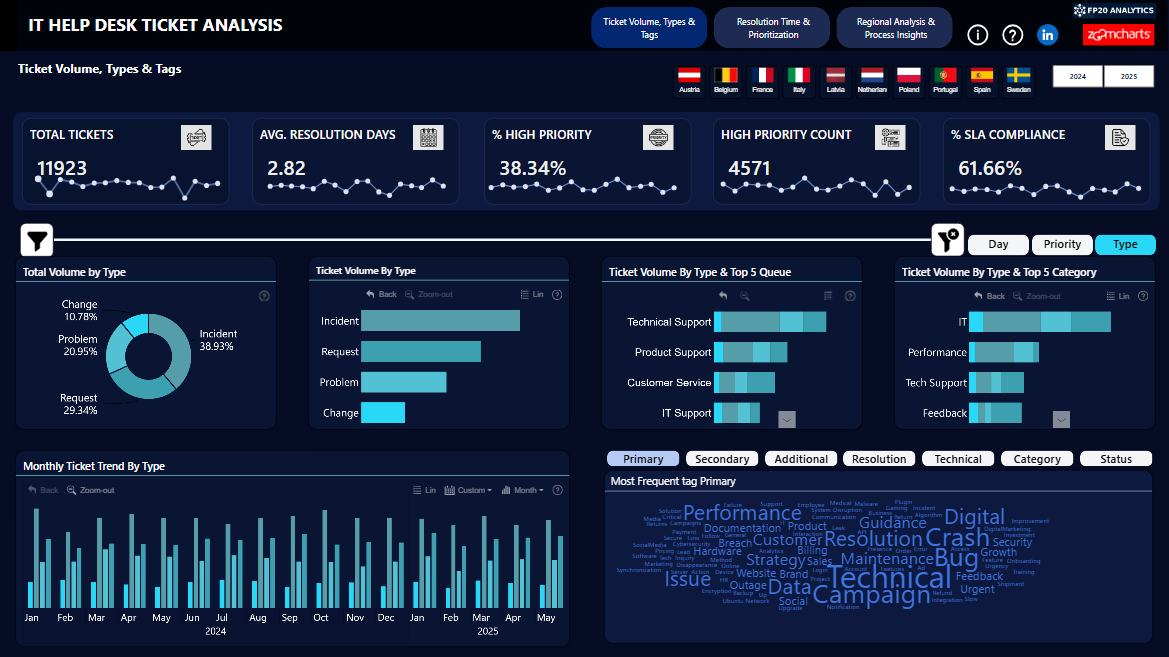

Layout of this report page (visuals, bound fields, positions):
{"tool":"powerbi","page":{"name":"Ticket Volume, Types & Tags","canvas":[1920,1080],"ordinal":0},"visuals":[{"type":"textbox","box":[0,0,31.6,83.5],"z":0},{"type":"shape","box":[24.2,128.7,1880.3,162],"z":0,"group":"g10"},{"type":"cardVisual","title":"AVG. RESOLUTION DAYS","fields":{"Data":["dax_measures.Avg Resolution Days"]},"box":[415,138.5,340,141.8],"z":0,"group":"g4"},{"type":"cardVisual","title":"% HIGH PRIORITY ","fields":{"Data":["dax_measures.High Priority %"]},"box":[794.4,138.5,340,141.8],"z":0,"group":"g3"},{"type":"cardVisual","title":"HIGH PRIORITY COUNT","fields":{"Data":["dax_measures.High Priority"]},"box":[1171.2,138.5,340,141.8],"z":0,"group":"g2"},{"type":"cardVisual","title":"% SLA COMPLIANCE ","fields":{"Data":["dax_measures.SLA Compliance %"]},"box":[1548.3,138.5,340,141.8],"z":0,"group":"g1"},{"type":"cardVisual","title":"TOTAL TICKETS ","fields":{"Data":["dax_measures.Total Tickets"]},"box":[38.2,139.1,340,141.8],"z":0,"group":"g6"},{"type":"actionButton","box":[1593.9,323.9,100,38.6],"z":0,"group":"g7"},{"type":"actionButton","box":[1596,325.6,100,38.6],"z":0,"group":"g8"},{"type":"ZoomChartsPieChartPaidE77E4ED357DC402ABA005987437CF500","title":"Total Volume by Day Type ","fields":{"Category":["dim_date.Weekend Flag"],"Values":["dax_measures.Total Tickets"]},"box":[32.1,379,432.8,326.2],"z":0,"group":"g5"},{"type":"actionButton","box":[935.7,718.6,120,40],"z":0,"group":"g9"},{"type":"group","id":"g1","title":"KPI Cards","box":[38.2,138.5,1850.1,143.1],"z":1000,"group":"g10"},{"type":"group","id":"g2","title":"Group 4","box":[1171.2,138.5,340,141.8],"z":1000,"group":"g1"},{"type":"image","box":[679.6,150.7,50,40.5],"z":1000,"group":"g4"},{"type":"image","box":[1055.4,150.7,50,40.5],"z":1000,"group":"g3"},{"type":"image","box":[1436.8,150.7,50,40.5],"z":1000,"group":"g2"},{"type":"lineChart","fields":{"Category":["dim_date.Date.Variation.Date Hierarchy.Year","dim_date.Date.Variation.Date Hierarchy.Quarter","dim_date.Date.Variation.Date Hierarchy.Month"],"Y":["dax_measures.Total Tickets"]},"box":[49.1,220.1,324.3,61.3],"z":1000,"group":"g6"},{"type":"actionButton","title":"PRIORITY","box":[1698.6,324.3,100,38.6],"z":1000,"group":"g7"},{"type":"actionButton","title":"PRIORITY","box":[1700.7,326,100,38.6],"z":1000,"group":"g8"},{"type":"shape","box":[22.9,364.3,1887.1,702.9],"z":1000},{"type":"ZoomChartsDrillDownComboBarProE77E4ED357DC402ABA005987437CF8","title":"Ticket Volume By Day Type & Type ","fields":{"Values1":["dax_measures.Total Tickets"],"Legend":["dim_date.Weekend Flag"],"Category":["fact_tickets.Type"]},"box":[475.4,381.5,452.3,325],"z":1000,"group":"g5"},{"type":"actionButton","box":[1065.7,718.6,120,40],"z":1000,"group":"g9"},{"type":"image","box":[299.6,150.7,50,40.5],"z":2000,"group":"g6"},{"type":"image","box":[1813.9,150.7,50,40.5],"z":2000,"group":"g1"},{"type":"lineChart","fields":{"Category":["dim_date.Date.Variation.Date Hierarchy.Year","dim_date.Date.Variation.Date Hierarchy.Quarter","dim_date.Date.Variation.Date Hierarchy.Month"],"Y":["dax_measures.Avg Resolution Days"]},"box":[429.2,219.5,313.9,62.1],"z":2000,"group":"g4"},{"type":"lineChart","fields":{"Category":["dim_date.Date.Variation.Date Hierarchy.Year","dim_date.Date.Variation.Date Hierarchy.Quarter","dim_date.Date.Variation.Date Hierarchy.Month"],"Y":["dax_measures.High Priority %"]},"box":[791.8,219.5,330,60.8],"z":2000,"group":"g3"},{"type":"lineChart","fields":{"Category":["dim_date.Date.Variation.Date Hierarchy.Year","dim_date.Date.Variation.Date Hierarchy.Quarter","dim_date.Date.Variation.Date Hierarchy.Month"],"Y":["dax_measures.High Priority"]},"box":[1172.5,219.5,335,60.8],"z":2000,"group":"g2"},{"type":"shape","box":[82.8,269,1437.9,110.3],"z":2000},{"type":"actionButton","box":[1802.6,324.1,100,38],"z":2000,"group":"g7"},{"type":"actionButton","box":[1804.7,325.8,100,38],"z":2000,"group":"g8"},{"type":"ZoomChartsDrillDownComboBarProE77E4ED357DC402ABA005987437CF8","title":"Ticket Volume By Day Type & Top 5 Queue","fields":{"Values1":["dax_measures.Total Tickets"],"Legend":["dim_date.Weekend Flag"],"Category":["fact_tickets.Queue"]},"box":[938,382.3,478.7,324.6],"z":2000,"group":"g5"},{"type":"actionButton","box":[1195.7,718.6,120,40],"z":2000,"group":"g9"},{"type":"textbox","title":"IT HELP DESK TICKET ANALYSIS","box":[31.8,0,1888.2,83],"z":3000},{"type":"group","id":"g3","title":"Group 3","box":[791.8,138.5,342.6,141.8],"z":3000,"group":"g1"},{"type":"ZoomChartsDrillDownTimelinePro7F6C01BA1C534E9AB4A6BCCB44F591","title":"Monthly Ticket Trend","fields":{"Values1":["dax_measures.Total Tickets"],"Category":["dim_date.Date.Variation.Date Hierarchy.Year","dim_date.Date.Variation.Date Hierarchy.Quarter","dim_date.Date.Variation.Date Hierarchy.Month","dim_date.Date.Variation.Date Hierarchy.Day"],"DateValue":["Min(dim_date.Date)"],"Legend":["dim_date.Weekend Flag"]},"box":[38.5,716.9,890.8,340],"z":3000,"group":"g5"},{"type":"actionButton","box":[1325.7,718.6,120,40],"z":3000,"group":"g9"},{"type":"textbox","title":"Ticket Volume, Types & Tags","box":[22.9,90,371.4,60],"z":4000},{"type":"lineChart","fields":{"Category":["dim_date.Date.Variation.Date Hierarchy.Year","dim_date.Date.Variation.Date Hierarchy.Quarter","dim_date.Date.Variation.Date Hierarchy.Month"],"Y":["dax_measures.SLA Compliance %"]},"box":[1547.5,219.5,335.7,61.3],"z":4000,"group":"g1"},{"type":"ZoomChartsDrillDownComboBarProE77E4ED357DC402ABA005987437CF8","title":"Ticket Volume By Day Type & Top 5 Category","fields":{"Values1":["dax_measures.Total Tickets"],"Category":["fact_tickets.Category Tag"],"Legend":["dim_date.Weekend Flag"]},"box":[1423.1,381.5,480,324.6],"z":4000,"group":"g5"},{"type":"actionButton","box":[1455.7,718.6,120,40],"z":4000,"group":"g9"},{"type":"group","id":"g4","title":"Group 2","box":[415,138.5,340,143.1],"z":5000,"group":"g1"},{"type":"group","id":"g5","title":"Day Type Plots","box":[32.1,379,1871,677.9],"z":5000},{"type":"actionButton","box":[1585.7,718.6,120,40],"z":5000,"group":"g9"},{"type":"group","id":"g6","title":"Group 1","box":[38.2,139.1,340,142.3],"z":6000,"group":"g1"},{"type":"actionButton","box":[1715.7,718.6,120,40],"z":6000,"group":"g9"},{"type":"group","id":"g7","title":"Slicer Buttons","box":[1593.9,323.9,308.7,39],"z":8000},{"type":"group","id":"g8","title":"Slicer Buttons Day Active ","box":[1596,325.6,308.9,39.4],"z":11000},{"type":"group","id":"g9","title":"Tag Buttons Primary","box":[935.7,718.6,900,40],"z":12000},{"type":"WordCloud1447959067750","title":"Most Frequent tag Status","fields":{"Category":["fact_tickets.Status Tag"]},"box":[939.1,758.6,962.8,299],"z":19000},{"type":"WordCloud1447959067750","title":"Most Frequent tag Category ","fields":{"Category":["fact_tickets.Category Tag"]},"box":[936.1,757.4,967.2,300],"z":20000},{"type":"WordCloud1447959067750","title":"Most Frequent tag Technical ","fields":{"Category":["fact_tickets.Technical Tag"]},"box":[936.4,757.3,952.2,300.3],"z":21000},{"type":"WordCloud1447959067750","title":"Most Frequent tag Resolution","fields":{"Category":["fact_tickets.Resolution Tag"]},"box":[939.1,758.6,949.6,299],"z":22000},{"type":"WordCloud1447959067750","title":"Most Frequent tag Additional ","fields":{"Category":["fact_tickets.Additional Tag"]},"box":[939.1,757.3,949.6,300.3],"z":23000},{"type":"WordCloud1447959067750","title":"Most Frequent tag Secondary","fields":{"Category":["fact_tickets.Secondary Tag"]},"box":[939.1,757.3,949.6,299],"z":24000},{"type":"WordCloud1447959067750","title":"Most Frequent tag Primary ","fields":{"Category":["fact_tickets.Primary Tag"]},"box":[936.4,758.6,966.7,297.7],"z":25000},{"type":"group","id":"g10","title":"Group 6","box":[24.2,128.7,1880.6,162],"z":26000},{"type":"image","box":[1520.7,296.6,55.2,55.2],"z":27000},{"type":"image","box":[24.6,296.7,55.7,55.7],"z":28000},{"type":"image","box":[1758,35.2,162.5,45.5],"z":30000},{"type":"image","box":[1758,0,148.4,34.8],"z":31000},{"type":"image","box":[1700.4,34.8,45.4,45.4],"z":32000},{"type":"actionButton","box":[1585.4,34.8,45.4,45.4],"z":33000},{"type":"actionButton","box":[1642.9,34.8,45.4,45.4],"z":34000},{"type":"slicer","fields":{"Values":["dim_date.Year"]},"box":[1703,85.1,216.4,50],"z":35000},{"type":"pageNavigator","box":[969.4,11.9,605.9,73.8],"z":37000}]}

Visuals, with their boxes in screenshot pixels (x1, y1, x2, y2), scaled from the page's 1920x1080 canvas onto the 1169x657 screenshot:
textbox: [0, 0, 19, 51]
shape: [15, 78, 1160, 177]
"AVG. RESOLUTION DAYS" cardVisual: [253, 84, 460, 171]
"% HIGH PRIORITY " cardVisual: [484, 84, 691, 171]
"HIGH PRIORITY COUNT" cardVisual: [713, 84, 920, 171]
"% SLA COMPLIANCE " cardVisual: [943, 84, 1150, 171]
"TOTAL TICKETS " cardVisual: [23, 85, 230, 171]
actionButton: [970, 197, 1031, 221]
actionButton: [972, 198, 1033, 222]
"Total Volume by Day Type " ZoomChartsPieChartPaidE77E4ED357DC402ABA005987437CF500: [20, 231, 283, 429]
actionButton: [570, 437, 643, 461]
"KPI Cards" group: [23, 84, 1150, 171]
"Group 4" group: [713, 84, 920, 171]
image: [414, 92, 444, 116]
image: [643, 92, 673, 116]
image: [875, 92, 905, 116]
lineChart - dim_date.Date.Variation.Date Hierarchy.Year x dim_date.Date.Variation.Date Hierarchy.Quarter: [30, 134, 227, 171]
"PRIORITY" actionButton: [1034, 197, 1095, 221]
"PRIORITY" actionButton: [1035, 198, 1096, 222]
shape: [14, 222, 1163, 649]
"Ticket Volume By Day Type & Type " ZoomChartsDrillDownComboBarProE77E4ED357DC402ABA005987437CF8: [289, 232, 565, 430]
actionButton: [649, 437, 722, 461]
image: [182, 92, 213, 116]
image: [1104, 92, 1135, 116]
lineChart - dim_date.Date.Variation.Date Hierarchy.Year x dim_date.Date.Variation.Date Hierarchy.Quarter: [261, 134, 452, 171]
lineChart - dim_date.Date.Variation.Date Hierarchy.Year x dim_date.Date.Variation.Date Hierarchy.Quarter: [482, 134, 683, 171]
lineChart - dim_date.Date.Variation.Date Hierarchy.Year x dim_date.Date.Variation.Date Hierarchy.Quarter: [714, 134, 918, 171]
shape: [50, 164, 926, 231]
actionButton: [1098, 197, 1158, 220]
actionButton: [1099, 198, 1160, 221]
"Ticket Volume By Day Type & Top 5 Queue" ZoomChartsDrillDownComboBarProE77E4ED357DC402ABA005987437CF8: [571, 233, 863, 430]
actionButton: [728, 437, 801, 461]
"IT HELP DESK TICKET ANALYSIS" textbox: [19, 0, 1168, 50]
"Group 3" group: [482, 84, 691, 171]
"Monthly Ticket Trend" ZoomChartsDrillDownTimelinePro7F6C01BA1C534E9AB4A6BCCB44F591: [23, 436, 566, 643]
actionButton: [807, 437, 880, 461]
"Ticket Volume, Types & Tags" textbox: [14, 55, 240, 91]
lineChart - dim_date.Date.Variation.Date Hierarchy.Year x dim_date.Date.Variation.Date Hierarchy.Quarter: [942, 134, 1147, 171]
"Ticket Volume By Day Type & Top 5 Category" ZoomChartsDrillDownComboBarProE77E4ED357DC402ABA005987437CF8: [866, 232, 1159, 430]
actionButton: [886, 437, 959, 461]
"Group 2" group: [253, 84, 460, 171]
"Day Type Plots" group: [20, 231, 1159, 643]
actionButton: [965, 437, 1039, 461]
"Group 1" group: [23, 85, 230, 171]
actionButton: [1045, 437, 1118, 461]
"Slicer Buttons" group: [970, 197, 1158, 221]
"Slicer Buttons Day Active " group: [972, 198, 1160, 222]
"Tag Buttons Primary" group: [570, 437, 1118, 461]
"Most Frequent tag Status" WordCloud1447959067750: [572, 461, 1158, 643]
"Most Frequent tag Category " WordCloud1447959067750: [570, 461, 1159, 643]
"Most Frequent tag Technical " WordCloud1447959067750: [570, 461, 1150, 643]
"Most Frequent tag Resolution" WordCloud1447959067750: [572, 461, 1150, 643]
"Most Frequent tag Additional " WordCloud1447959067750: [572, 461, 1150, 643]
"Most Frequent tag Secondary" WordCloud1447959067750: [572, 461, 1150, 643]
"Most Frequent tag Primary " WordCloud1447959067750: [570, 461, 1159, 643]
"Group 6" group: [15, 78, 1160, 177]
image: [926, 180, 959, 214]
image: [15, 180, 49, 214]
image: [1070, 21, 1168, 49]
image: [1070, 0, 1161, 21]
image: [1035, 21, 1063, 49]
actionButton: [965, 21, 993, 49]
actionButton: [1000, 21, 1028, 49]
slicer - dim_date.Year: [1037, 52, 1168, 82]
pageNavigator: [590, 7, 959, 52]
